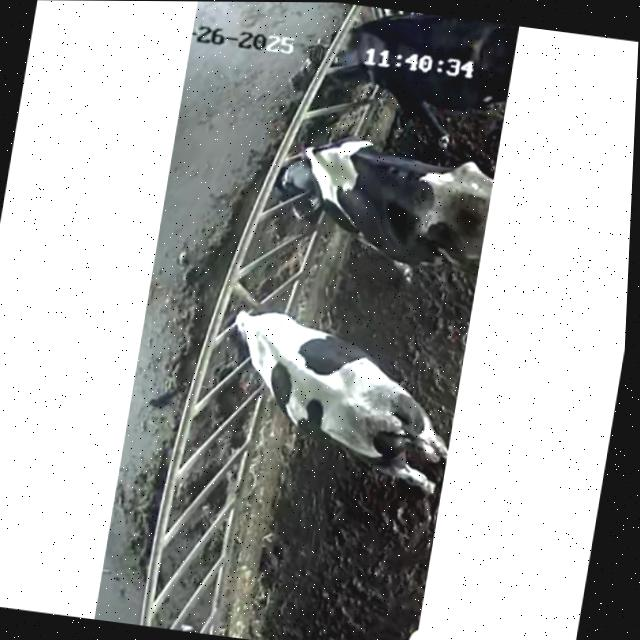eat: (223, 119, 415, 250), (156, 274, 339, 406), (269, 2, 448, 122)
